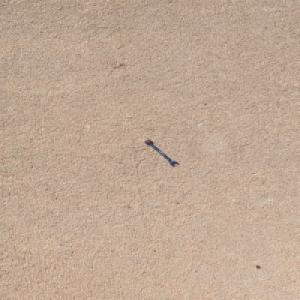Wrench: (143, 138, 179, 165)
